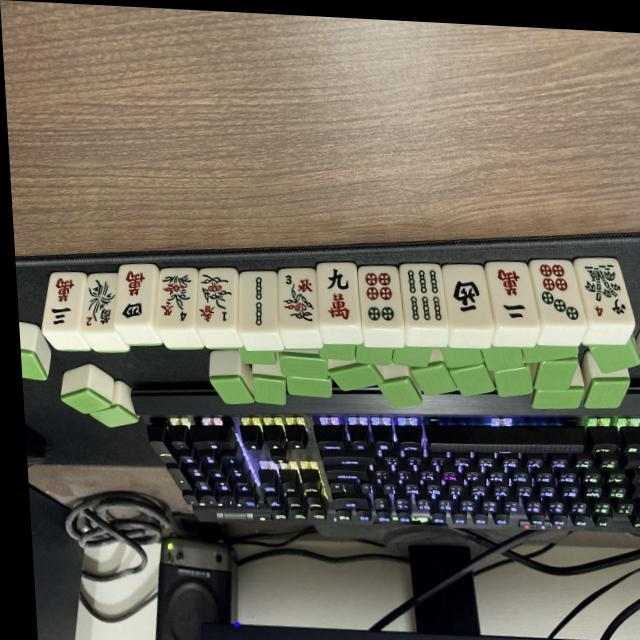f2: (77, 274, 119, 333)
f4: (575, 258, 633, 326)
ff1: (195, 268, 241, 331)
ff3: (277, 269, 320, 330)
ff4: (154, 267, 200, 328)
m2: (486, 263, 541, 330)
m3: (40, 271, 87, 334)
m4: (114, 263, 159, 326)
m9: (317, 263, 362, 328)
s2: (234, 272, 279, 334)
s6: (402, 264, 449, 329)
t6: (358, 266, 403, 330)
t7: (529, 258, 585, 326)
west: (444, 266, 495, 330)
